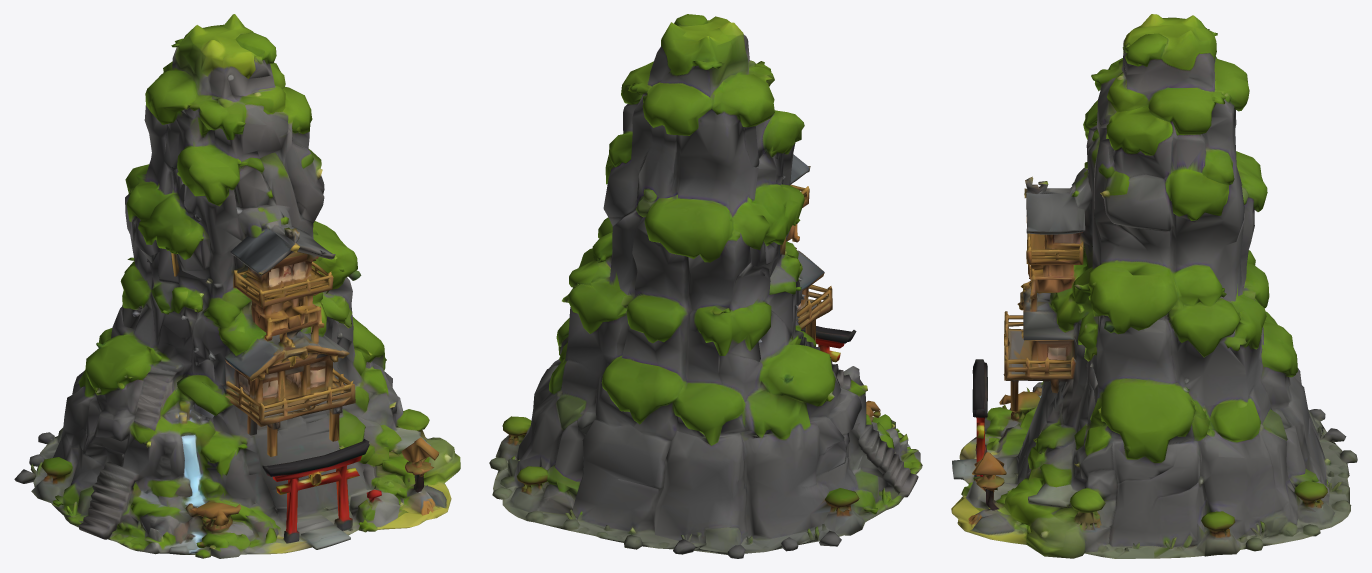
The model's file is env_japan_templecliff.fbx.
The picture shows the model from 3 angles, left to right: view 1: azimuth 30°, elevation 25°; view 2: azimuth 150°, elevation 25°; view 3: azimuth 270°, elevation 25°; orthographic projection. The views are drawn at different scales.
Visible parts, largest first — view 1: env_japan_templecliff_LOD0; view 2: env_japan_templecliff_LOD0; view 3: env_japan_templecliff_LOD0.
Boxes of the visible parts, left/top/right/bottom form: env_japan_templecliff_LOD0: left=14, top=14, right=460, bottom=558; env_japan_templecliff_LOD0: left=489, top=14, right=922, bottom=558; env_japan_templecliff_LOD0: left=951, top=14, right=1357, bottom=558.
Size of what is drawn, in the model's own units: 0.8187 by 0.9815 by 0.8029.
